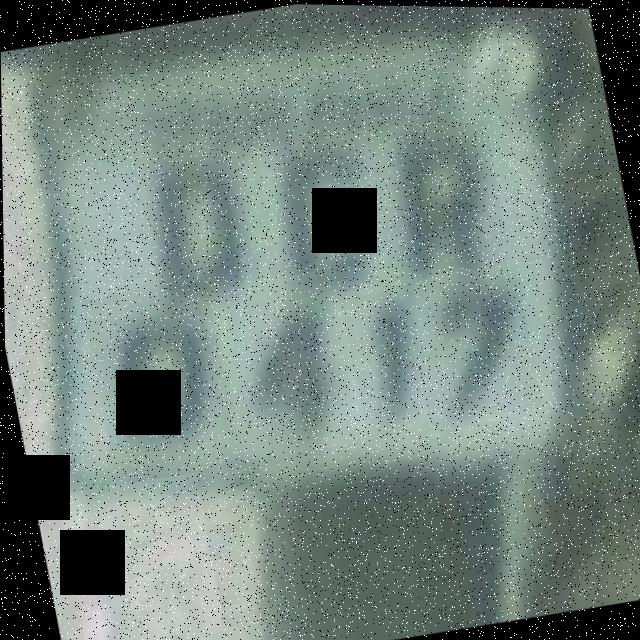0: (80, 277, 240, 486)
1: (332, 275, 443, 433)
3: (55, 470, 229, 640)
4: (211, 265, 366, 461)
7: (403, 270, 542, 425)
C: (254, 131, 378, 283)
R: (366, 117, 511, 281)
